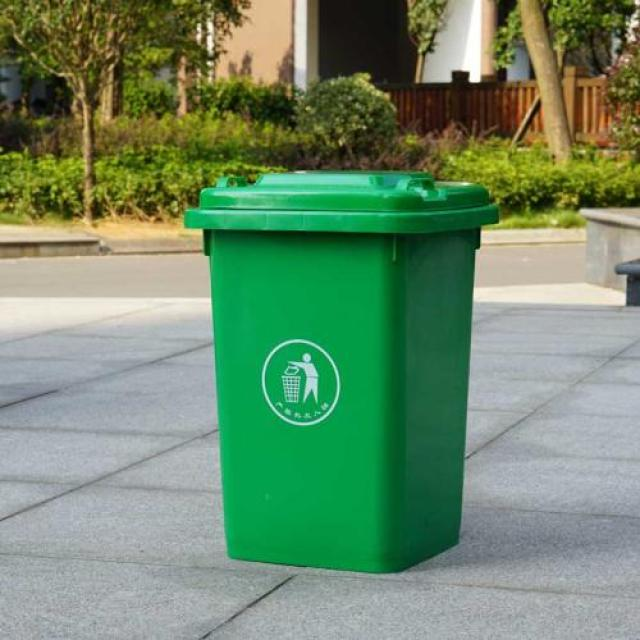garbage_bin: (183, 169, 498, 572)
